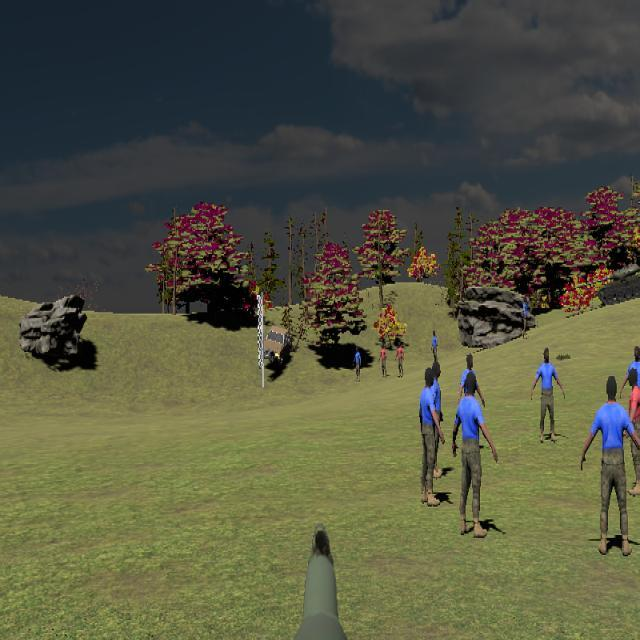Human: (580, 374, 640, 555), (452, 371, 498, 539), (419, 365, 444, 508), (531, 348, 565, 443), (624, 364, 640, 508), (622, 345, 640, 434), (628, 369, 640, 481)
Tank: (577, 264, 640, 306)
car: (257, 325, 293, 365)
